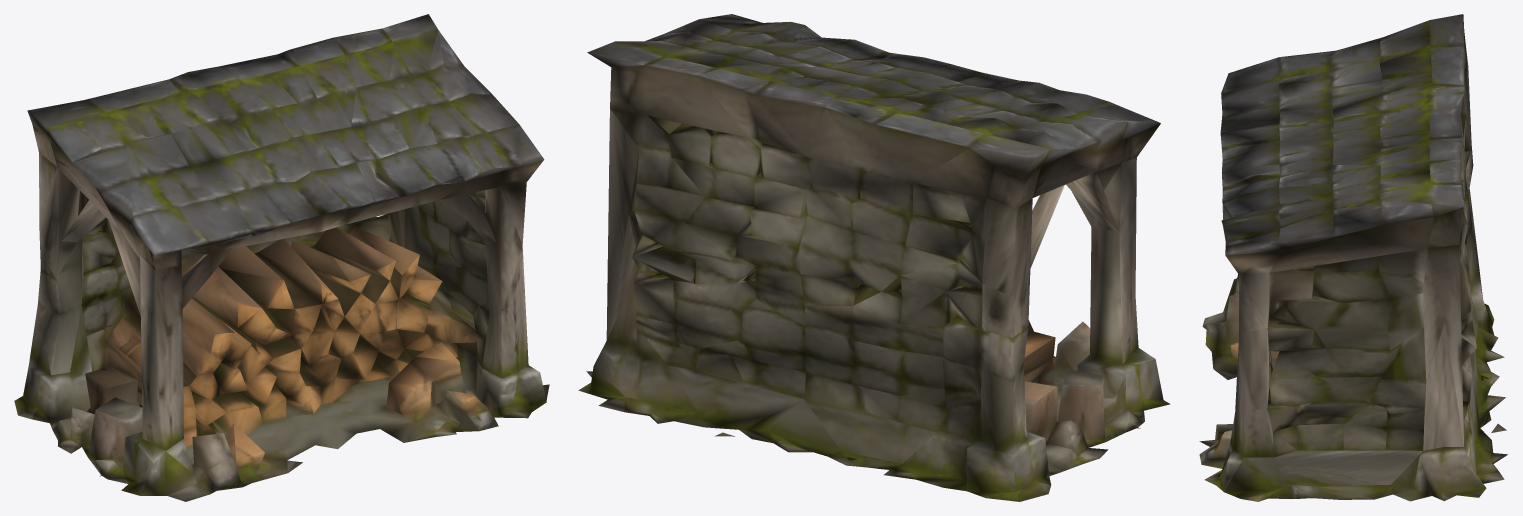
File: land_woodshed.obj
3 views of the same model, side by side, from view 1: azimuth 30°, elevation 25°; view 2: azimuth 150°, elevation 25°; view 3: azimuth 270°, elevation 25° (orthographic). The views are drawn at different scales.
Parts seen in each view (by area): view 1: land_woodshed; view 2: land_woodshed; view 3: land_woodshed.
Boxes of the visible parts, x1,y1,x2,y2 form: land_woodshed: (14,14,549,501); land_woodshed: (578,14,1170,501); land_woodshed: (1199,14,1507,501).
Bounding box in the file's own units: 4.12 × 2.76 × 2.63.
1 material, 1 textured.
